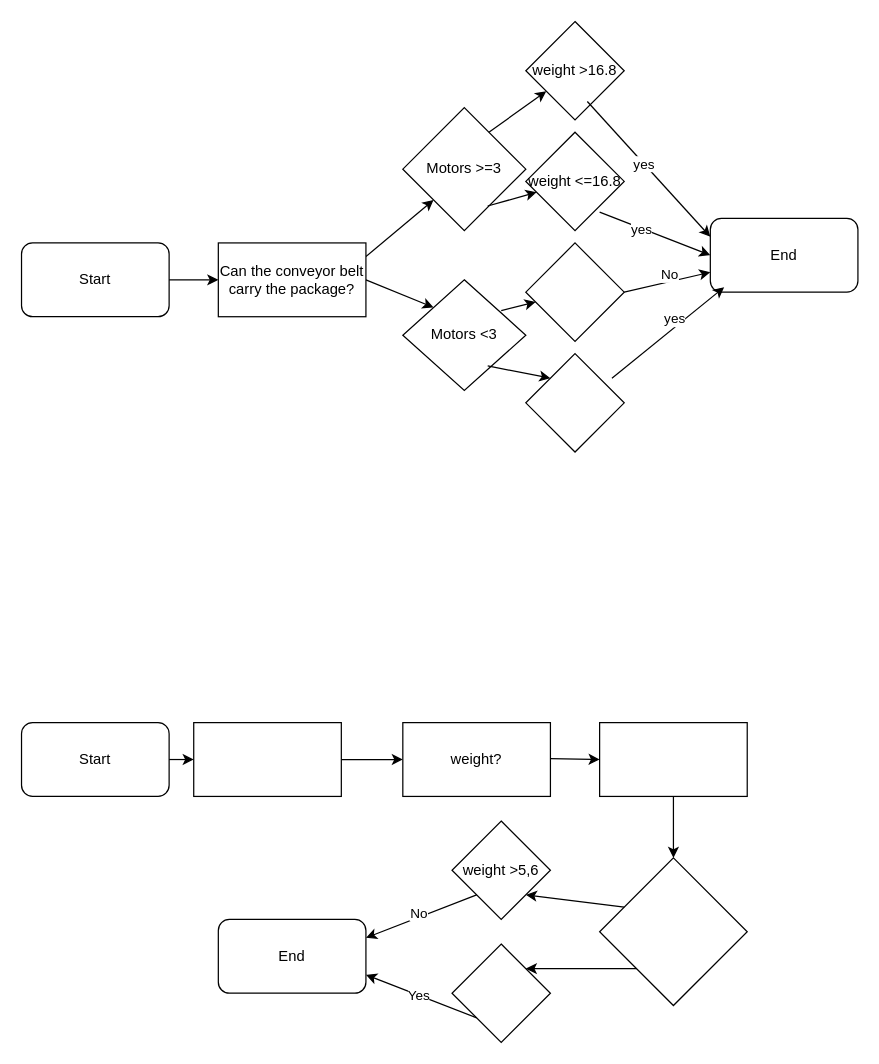
The diagram is 879 pixels wide and 1064 high, and some of its shapes have lost their labels. The box of each missing label's shape, as (x1, y1, x2, y2) in pixels:
Can conveyorbelt carry the package?: (192, 721, 341, 796)
Motor count?: (598, 721, 747, 796)
weight <=11,2: (525, 352, 624, 452)
weight <=5,6: (451, 943, 550, 1042)
weight >11,2: (525, 242, 624, 341)
x = (motors x 5.6)/weight: (598, 857, 747, 1006)
